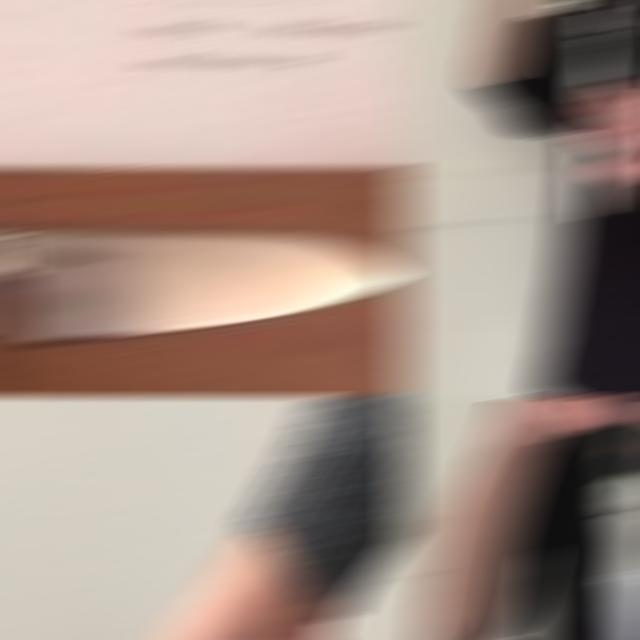Knife: (0, 235, 403, 338)
Knife_Handle: (0, 133, 410, 382), (503, 398, 640, 638), (538, 2, 619, 216), (575, 2, 640, 219)
